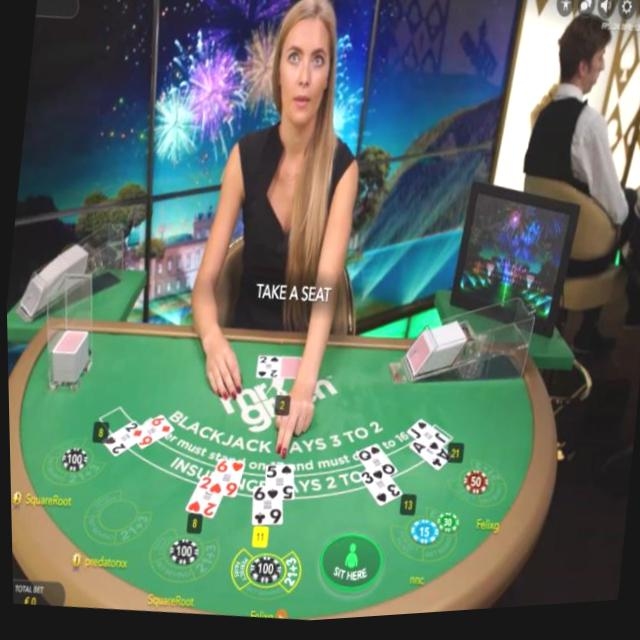Card-2: (181, 475, 220, 520), (99, 421, 137, 456), (254, 355, 279, 381)
Card-3: (355, 473, 400, 510)
Card-5: (263, 467, 292, 501)
Card-6: (208, 458, 242, 499), (134, 414, 170, 449), (249, 488, 280, 526)
Card-A: (408, 444, 449, 477)
Card-J: (404, 421, 444, 454)
Card-Q: (352, 446, 394, 482)
